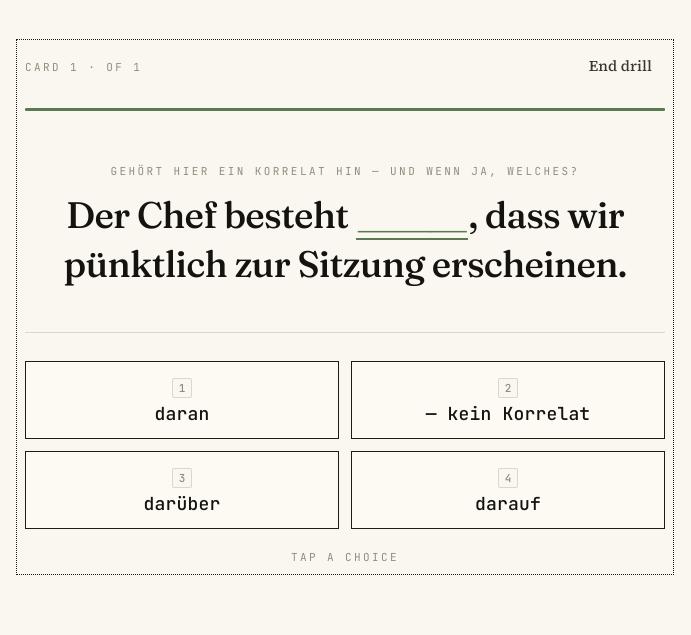
Test: KorrelatRunner — smoke tests › shows success feedback when the correct compound is picked (obligatory)
The width and height of the screenshot is (691, 635).
Click the button with class "choice" showing "4 darauf".
click(508, 490)  # box [351, 451, 665, 529]
(page scrolled)
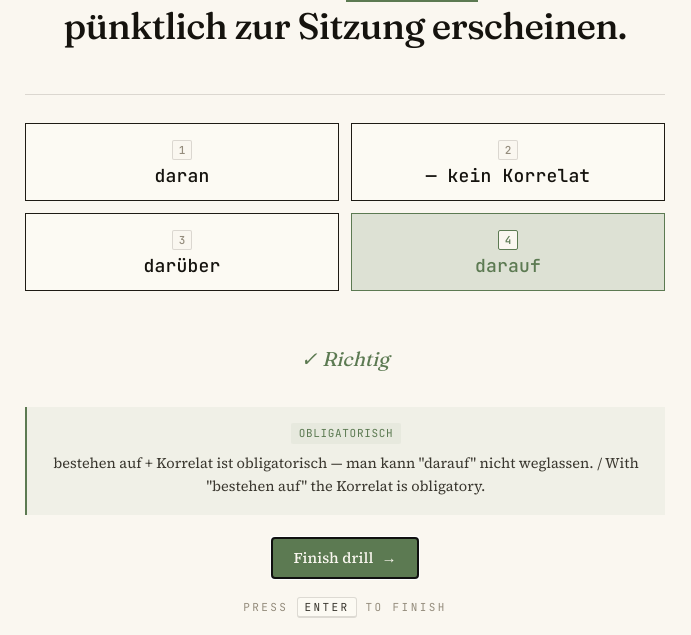
Check: the text "✓ Richtig" is shown, box [301, 343, 389, 375]
